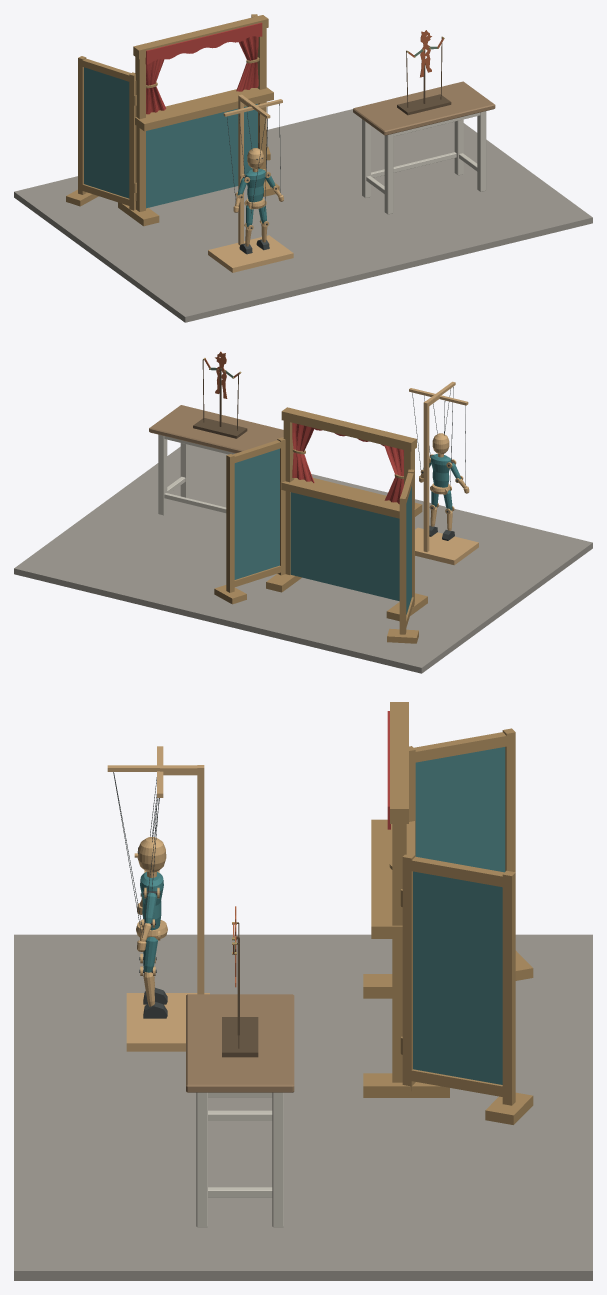
3 views of the same model, one above another, from view 1: azimuth 30°, elevation 25°; view 2: azimuth 150°, elevation 25°; view 3: azimuth 270°, elevation 25° (orthographic). The views are drawn at different scales.
Parts seen in each view (by area): view 1: SCENE_ONLY__DisplayFloor, theatre__WholeLowerConcealmentScreen, theatre__LeftWholeInsetWingPanel, table__Complete work surface, theatre__WholePerformanceWindowSill, marionette__WholeDisplayGroundFoot, theatre__WholeScallopedUpperValance, theatre__LeftWholeFrontProsceniumPost, theatre__WholeProsceniumHeader, theatre__RightWholeFrontProsceniumPost, theatre__RightWholeGatheredPleatedCurtain, theatre__LeftOuterStile (+12 smaller); view 2: SCENE_ONLY__DisplayFloor, theatre__WholeLowerConcealmentScreen, theatre__RightWholeInsetWingPanel, table__Complete work surface, theatre__WholePerformanceWindowSill, theatre__WholeProsceniumHeader, marionette__WholeDisplayGroundFoot, theatre__RightOuterStile, theatre__LeftOuterStile, marionette__WholeRearDisplayPost, theatre__RightWholeFrontProsceniumPost, theatre__RightWholeGatheredPleatedCurtain (+9 smaller); view 3: SCENE_ONLY__DisplayFloor, theatre__RightWholeInsetWingPanel, theatre__LeftWholeInsetWingPanel, table__Complete work surface, theatre__RightOuterStile, marionette__WholeDisplayGroundFoot, theatre__WholePerformanceWindowSill, theatre__RightWholeFrontProsceniumPost, theatre__RightInnerStile, theatre__WholeProsceniumHeader, marionette__WholeRearDisplayPost, table__Worktable leg.002 (+10 smaller).
Boxes of the visible parts, x1,y1,x2,y2 form: SCENE_ONLY__DisplayFloor: (14,109,592,322); theatre__WholeLowerConcealmentScreen: (146,104,257,208); theatre__LeftWholeInsetWingPanel: (84,67,129,198); table__Complete work surface: (353,81,495,135); theatre__WholePerformanceWindowSill: (135,87,273,131); marionette__WholeDisplayGroundFoot: (208,235,293,272); theatre__WholeScallopedUpperValance: (145,22,262,64); theatre__LeftWholeFrontProsceniumPost: (135,57,145,211); theatre__WholeProsceniumHeader: (133,15,268,59); theatre__RightWholeFrontProsceniumPost: (257,28,266,181); theatre__RightWholeGatheredPleatedCurtain: (236,36,258,91); theatre__LeftOuterStile: (78,56,86,194); SCENE_ONLY__DisplayFloor: (14,445,592,673); theatre__WholeLowerConcealmentScreen: (290,492,399,601); theatre__RightWholeInsetWingPanel: (234,448,279,579); table__Complete work surface: (149,405,283,453); theatre__WholePerformanceWindowSill: (280,478,422,518); theatre__WholeProsceniumHeader: (281,407,416,451); marionette__WholeDisplayGroundFoot: (415,527,478,565); theatre__RightOuterStile: (226,454,234,592); theatre__LeftOuterStile: (399,496,406,634); marionette__WholeRearDisplayPost: (423,401,429,552); theatre__RightWholeFrontProsceniumPost: (283,420,294,574); theatre__RightWholeGatheredPleatedCurtain: (292,423,314,482); SCENE_ONLY__DisplayFloor: (14,934,592,1280); theatre__RightWholeInsetWingPanel: (413,871,502,1084); theatre__LeftWholeInsetWingPanel: (415,747,505,872); table__Complete work surface: (186,994,294,1092); theatre__RightOuterStile: (502,870,515,1105); marionette__WholeDisplayGroundFoot: (126,993,209,1051); theatre__WholePerformanceWindowSill: (371,819,414,938); theatre__RightWholeFrontProsceniumPost: (392,824,406,1082); theatre__RightInnerStile: (402,853,415,1090); theatre__WholeProsceniumHeader: (390,702,408,823); marionette__WholeRearDisplayPost: (197,765,204,994); table__Worktable leg.002: (196,1092,207,1227).
Bounding box in the file's own units: 4.4 × 1.81 × 3.2.
